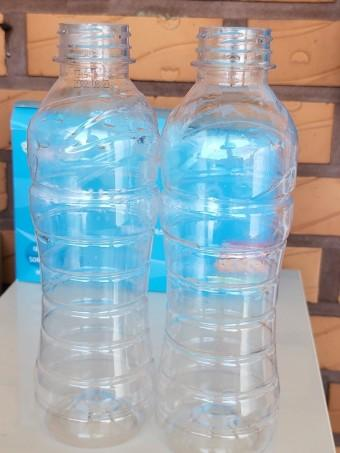plastic_bottle: (158, 15, 294, 453), (19, 16, 154, 449)
